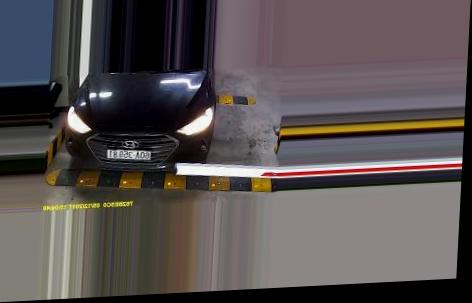License_Plate: (104, 146, 152, 163)
